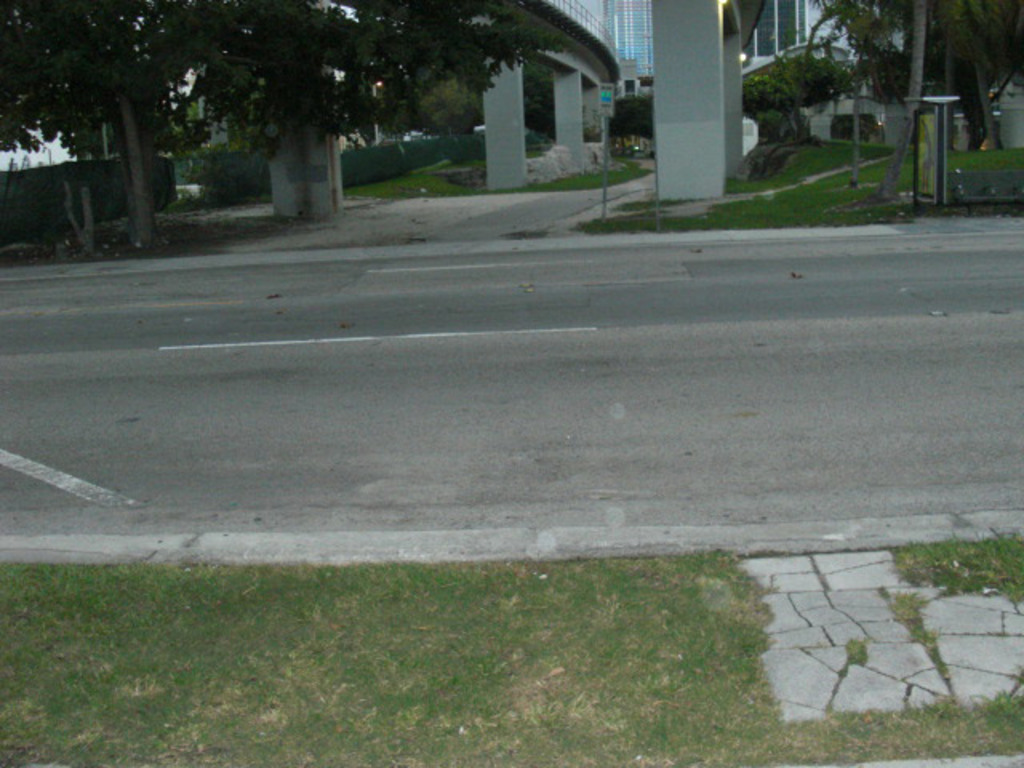Tree: (0, 0, 561, 249), (742, 0, 1022, 150)
